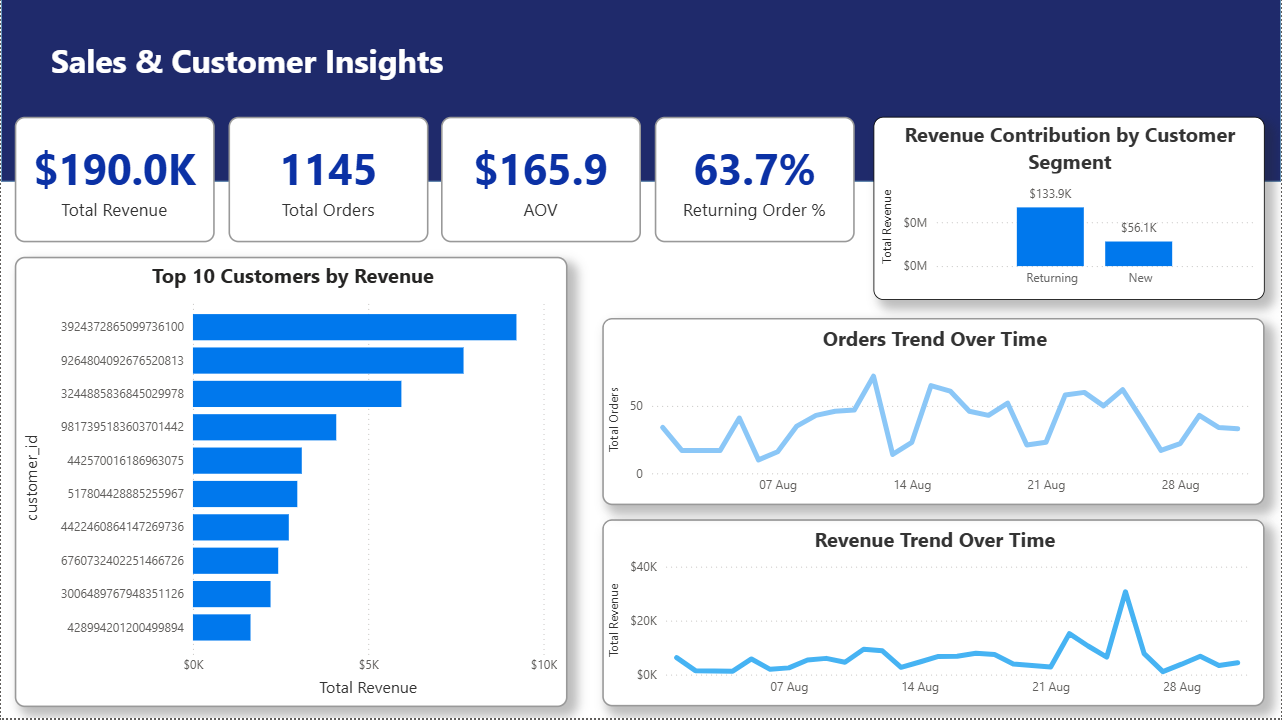

Layout of this report page (visuals, bound fields, positions):
{"tool":"powerbi","page":{"name":"Sales & Customers","canvas":[1280,720],"ordinal":2},"visuals":[{"type":"shape","box":[0,0,1280,183.8],"z":0},{"type":"card","fields":{"Values":["orders_clean.Total Revenue"]},"box":[13.9,119,200,125.3],"z":1000},{"type":"card","fields":{"Values":["orders_clean.Total Orders"]},"box":[227.8,119,200,125.3],"z":2000},{"type":"card","fields":{"Values":["orders_clean.AOV"]},"box":[440.5,119,200,125.3],"z":3000},{"type":"card","fields":{"Values":["orders_clean.Returning Order %"]},"box":[653.2,119,200,125.3],"z":4000},{"type":"lineChart","title":"Revenue Trend Over Time","fields":{"Y":["orders_clean.Total Revenue"],"Category":["orders_clean.transaction_date.Variation.Date Hierarchy.Year","orders_clean.transaction_date.Variation.Date Hierarchy.Quarter","orders_clean.transaction_date.Variation.Date Hierarchy.Month","orders_clean.transaction_date.Variation.Date Hierarchy.Day"]},"box":[601.3,521.5,662,187.3],"z":5000},{"type":"clusteredColumnChart","title":"Revenue Contribution by Customer Segment","fields":{"Category":["orders_clean.customer_type"],"Y":["orders_clean.Total Revenue"]},"box":[872.2,119,391.1,183.5],"z":6000},{"type":"textbox","box":[45.6,36.7,536.7,55.7],"z":7000},{"type":"lineChart","title":"Orders Trend Over Time","fields":{"Y":["orders_clean.Total Orders"],"Category":["orders_clean.transaction_date.Variation.Date Hierarchy.Year","orders_clean.transaction_date.Variation.Date Hierarchy.Quarter","orders_clean.transaction_date.Variation.Date Hierarchy.Month","orders_clean.transaction_date.Variation.Date Hierarchy.Day"]},"box":[601.3,320.3,662,187.3],"z":8000},{"type":"clusteredBarChart","title":"Top 10 Customers by Revenue","fields":{"Category":["orders_clean.customer_id"],"Y":["orders_clean.Total Revenue"]},"box":[13.9,258.2,553.2,450.6],"z":9000}]}

Visuals, with their boxes in screenshot pixels (x1, y1, x2, y2), scaled from the page's 1280x720 canvas onto the 1282x720 screenshot:
shape: 0:0:1281:184
card - orders_clean.Total Revenue: 14:119:214:244
card - orders_clean.Total Orders: 228:119:428:244
card - orders_clean.AOV: 441:119:642:244
card - orders_clean.Returning Order %: 654:119:855:244
"Revenue Trend Over Time" lineChart: 602:522:1265:709
"Revenue Contribution by Customer Segment" clusteredColumnChart: 874:119:1265:302
textbox: 46:37:583:92
"Orders Trend Over Time" lineChart: 602:320:1265:508
"Top 10 Customers by Revenue" clusteredBarChart: 14:258:568:709
